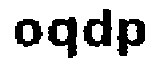d: (81, 5, 113, 50)
o: (11, 17, 43, 51)
p: (116, 16, 147, 60)
q: (47, 15, 81, 60)
